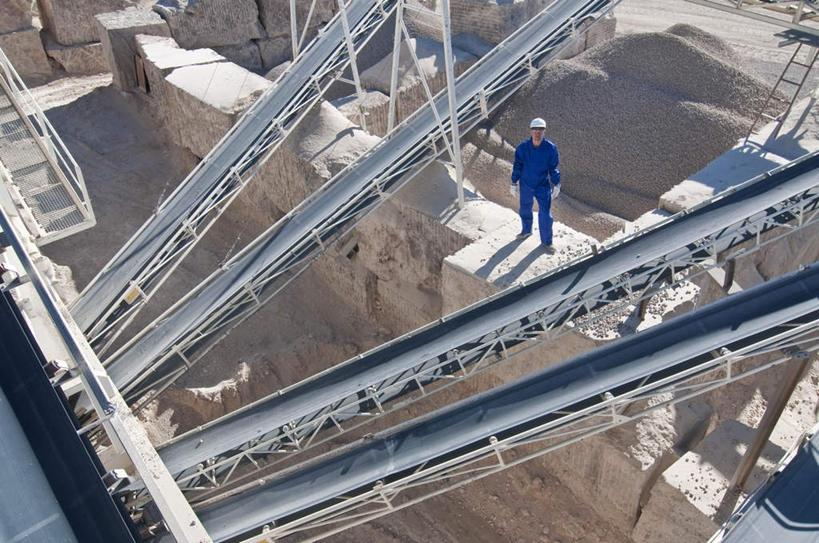helmet: (528, 116, 548, 129)
wear: (517, 141, 555, 188)
